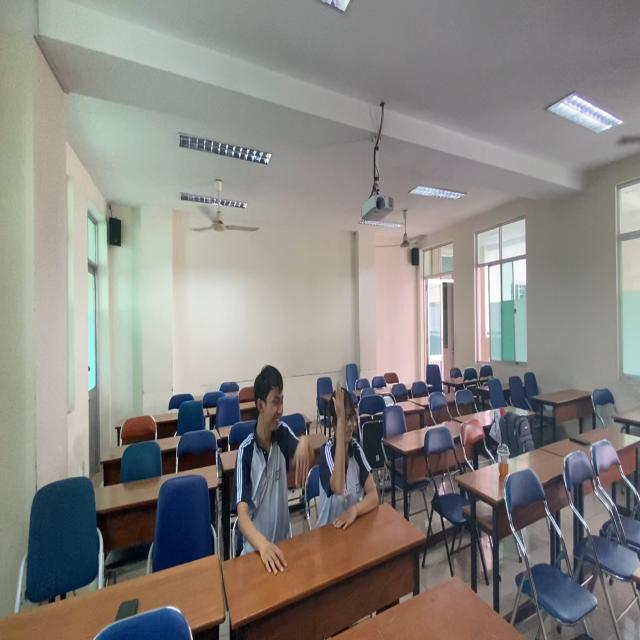raise_hand: (323, 381, 374, 521)
